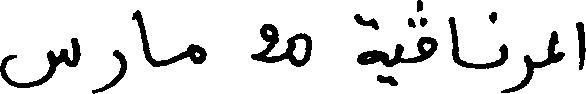X: (0, 33, 77, 92), (408, 0, 435, 67), (355, 9, 377, 85), (93, 45, 125, 93), (490, 7, 506, 93), (379, 39, 402, 90), (252, 19, 276, 67), (508, 50, 532, 93), (289, 28, 309, 71), (137, 5, 150, 68), (549, 26, 562, 69), (188, 39, 204, 68), (577, 17, 585, 74), (449, 12, 457, 68)
